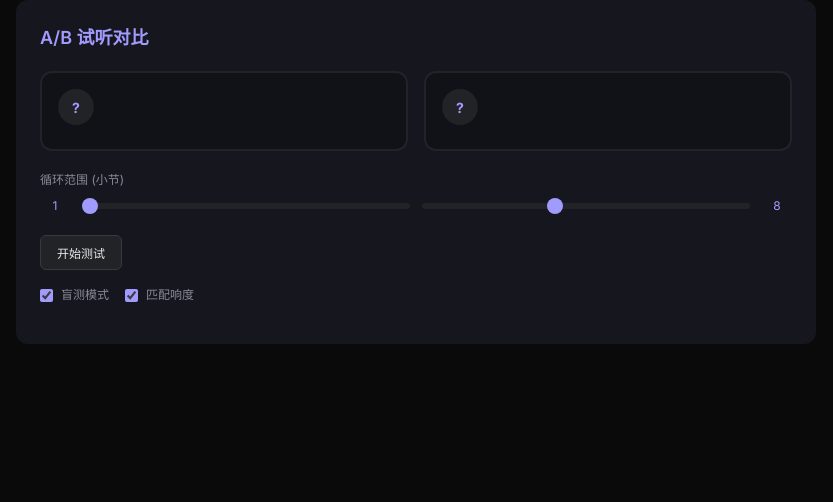
Test: ABPlayerUI › reaches the vote step after listening to both versions
Click the button "开始测试" at (81, 252), box [40,235,122,270]
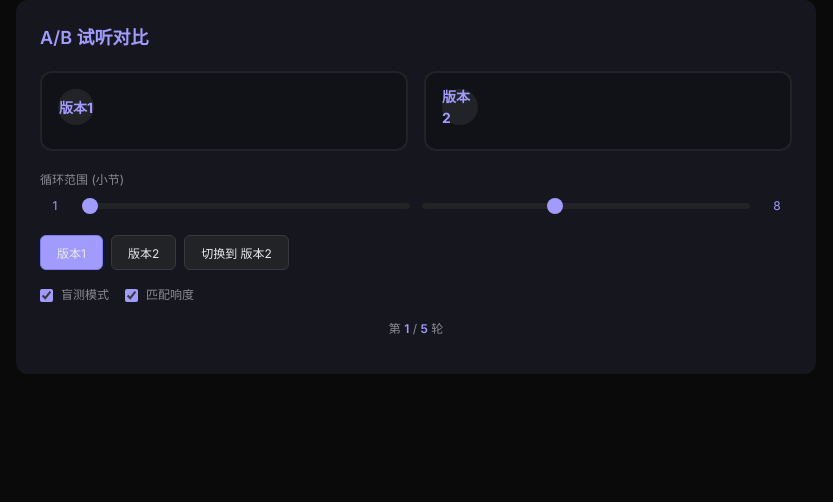
Click the button "切换到 版本2" at (237, 252), box [184,235,289,270]
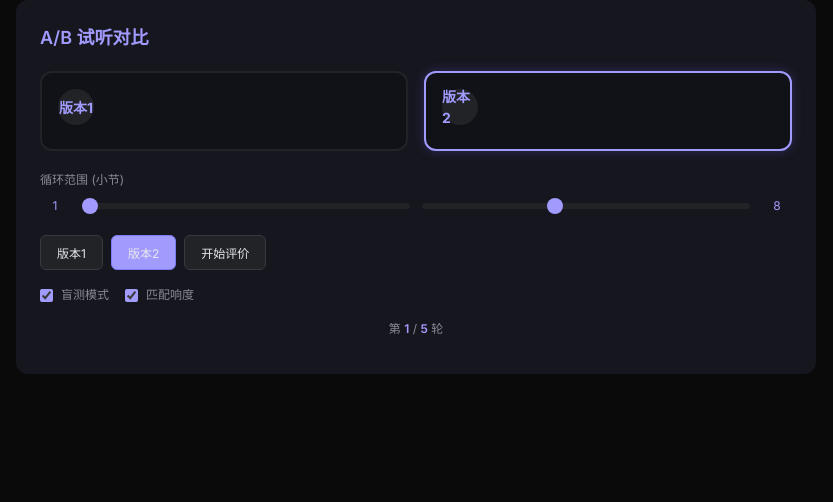
Click the button "开始评价" at (225, 252), box [184,235,266,270]
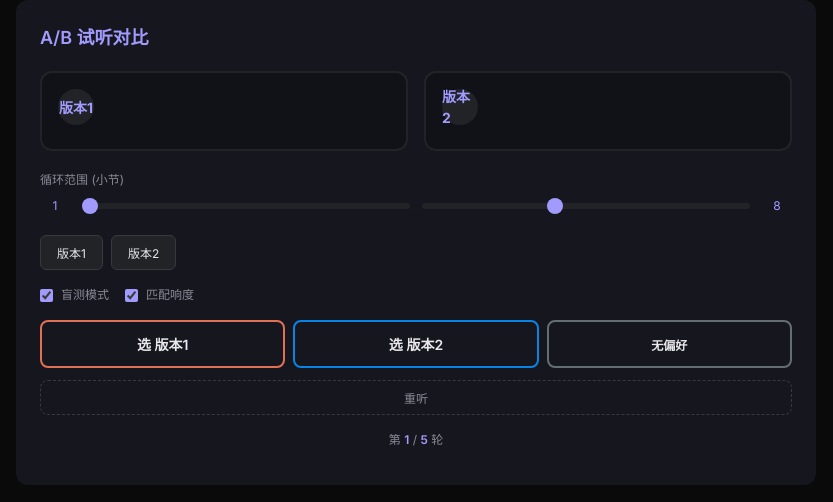
Expected: the text "轮" is shown, [428,432,443,447]
Expected: the button "无偏好" is shown, [547,320,792,368]
